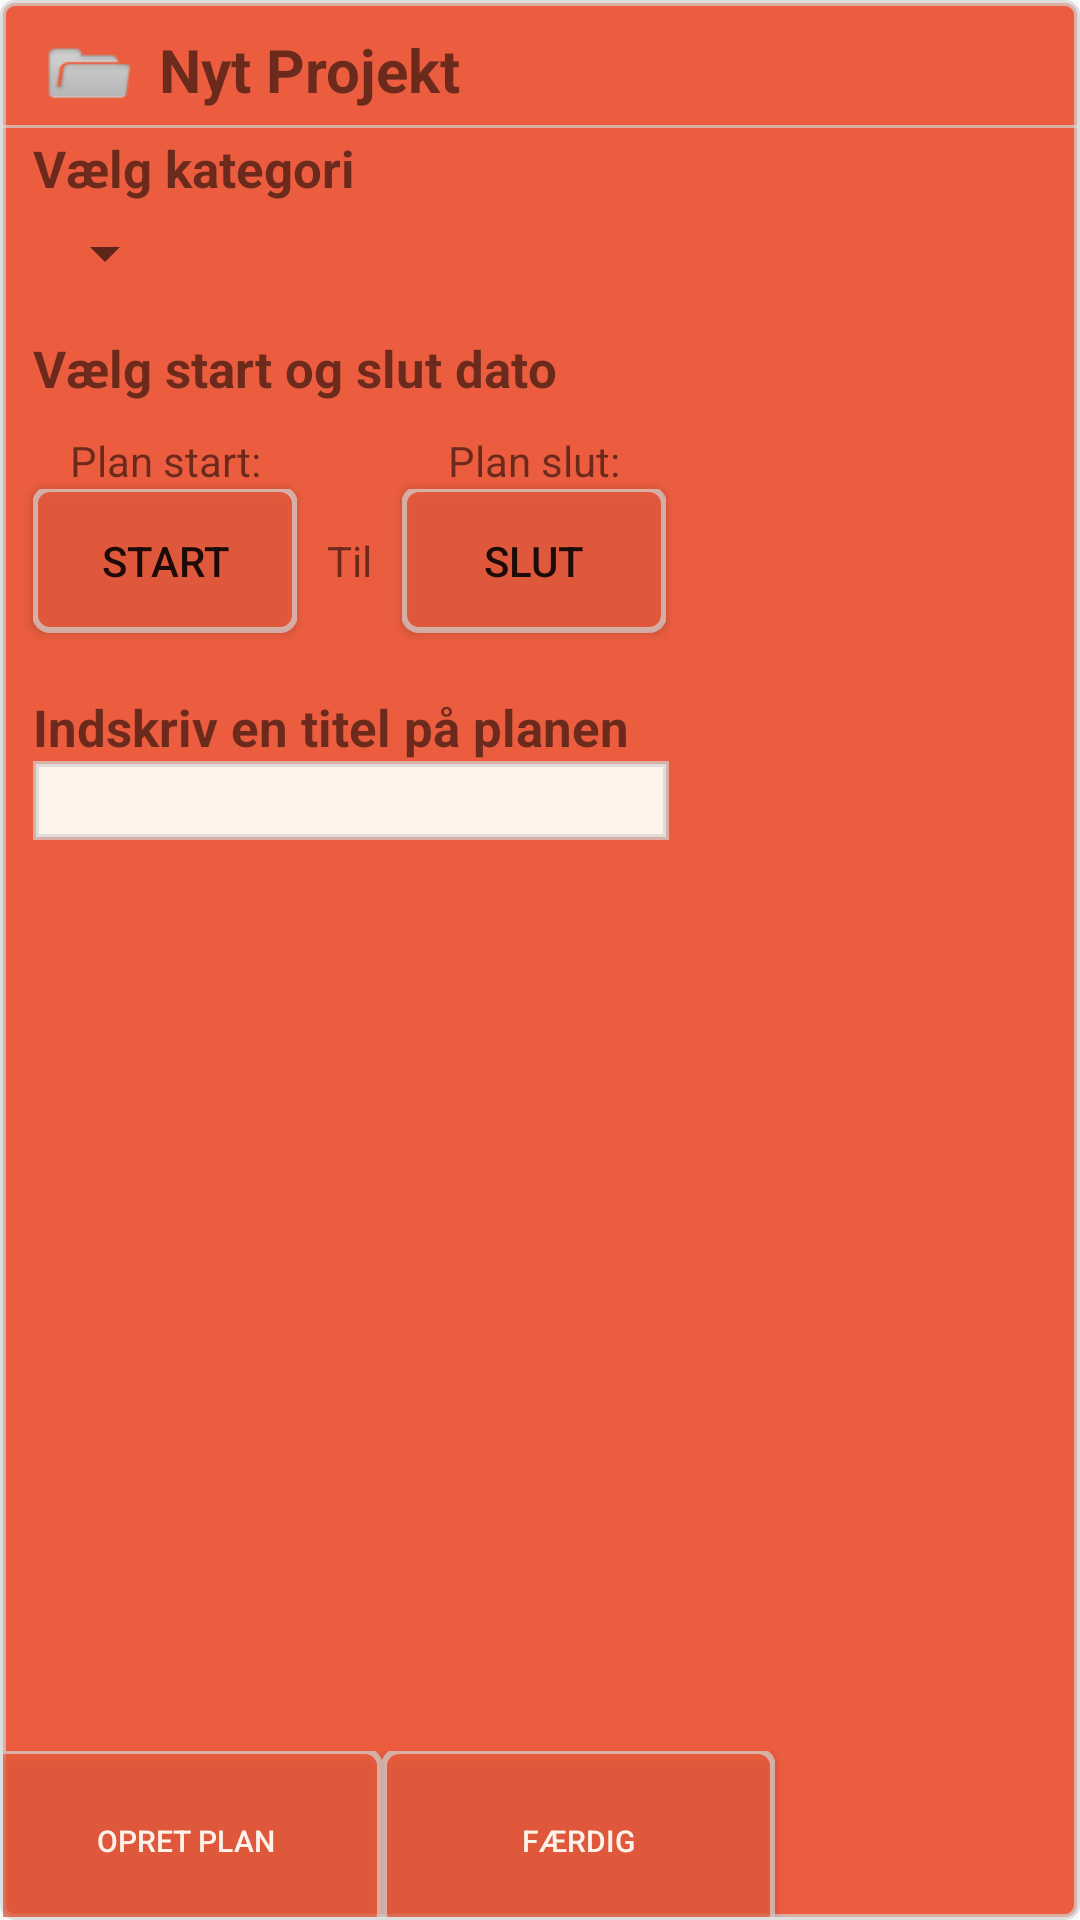

Icons on this 1080x1920 Android screen, each with its box as (x1, y1, x2, y2):
archive: (48, 48, 130, 98)
